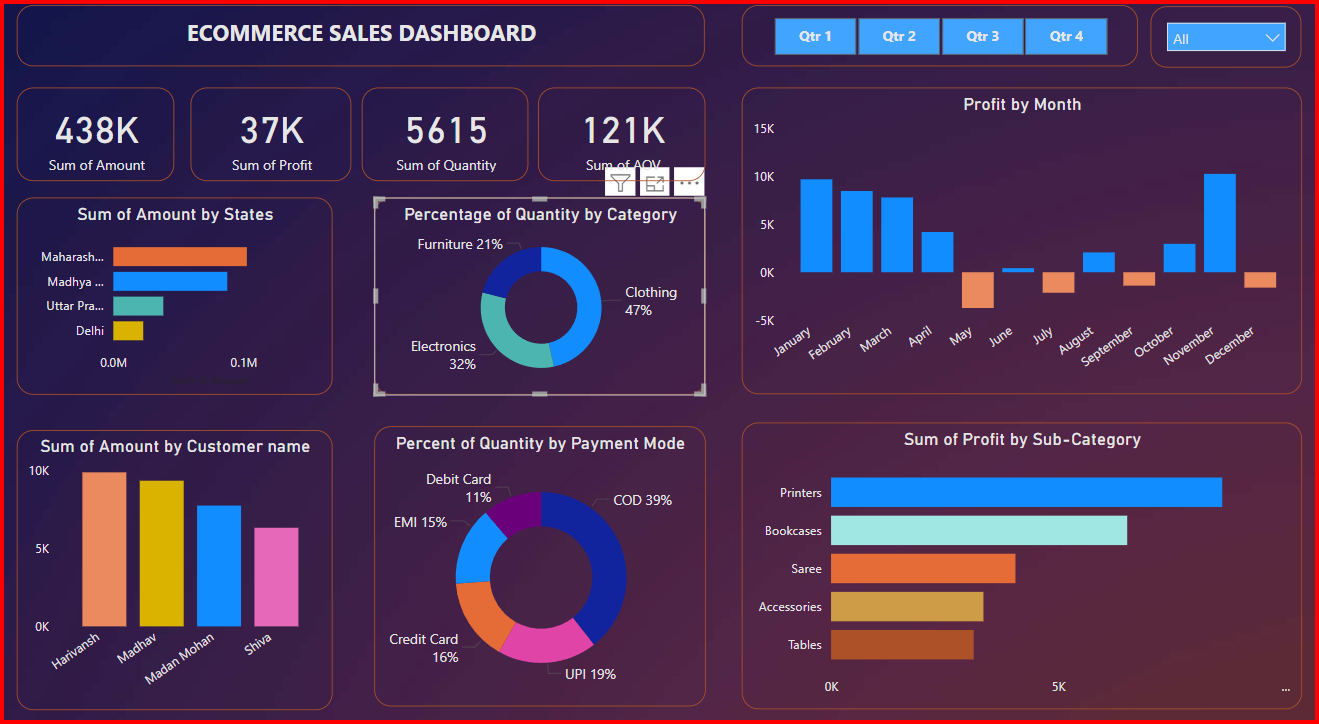

The page's visual inventory and layout, read from the dashboard file:
{"tool":"powerbi","page":{"name":"Page 1","canvas":[1280,720],"ordinal":0},"visuals":[{"type":"textbox","box":[23.3,9.6,664.2,59],"z":0},{"type":"columnChart","title":"Profit by Month","fields":{"Y":["Details.Profit"],"Category":["Orders.Order Date.Variation.Date Hierarchy.Month"]},"box":[723.2,89.2,540.7,296.4],"z":1000},{"type":"barChart","title":"Profit by Sub-Category","fields":{"Category":["Details.Sub-Category"],"Y":["Details.Profit"]},"box":[723.2,413,540.7,277.2],"z":2000},{"type":"donutChart","title":"Profit by Sub-Category","fields":{"Y":["Details.Quantity"],"Category":["Details.Category"]},"box":[367.8,194.9,319.7,190.7],"z":3000},{"type":"donutChart","title":"Profit by Sub-Category","fields":{"Y":["Details.Quantity"],"Category":["Details.PaymentMode"]},"box":[367.8,415.8,319.7,270.3],"z":4000},{"type":"barChart","title":"Profit by Sub-Category","fields":{"Category":["Orders.State"],"Y":["Details.Amount"]},"box":[23.3,194.9,304.6,190.7],"z":5000},{"type":"columnChart","title":"Profit by Sub-Category","fields":{"Category":["Orders.CustomerName"],"Y":["Details.Amount"]},"box":[23.3,419.9,304.6,270.3],"z":6000},{"type":"card","fields":{"Values":["Details.Amount"]},"box":[23.3,89.2,152.3,90.6],"z":7000},{"type":"card","fields":{"Values":["Details.Amount"]},"box":[190.7,89.2,155.1,90.6],"z":8000},{"type":"card","fields":{"Values":["Details.Amount"]},"box":[355.4,89.2,160.5,90.6],"z":9000},{"type":"card","fields":{"Values":["Details.Amount"]},"box":[525.6,89.2,161.9,90.6],"z":10000},{"type":"slicer","fields":{"Values":["Orders.Order Date.Variation.Date Hierarchy.Quarter"]},"box":[723.2,9.6,381.5,59],"z":11000},{"type":"slicer","fields":{"Values":["Orders.State"]},"box":[1112.9,9.6,150.9,59],"z":12000}]}

Visuals, with their boxes in screenshot pixels (x1, y1, x2, y2), scaled from the page's 1280x720 canvas onto the 1319x724 screenshot:
textbox: x1=24 y1=10 x2=708 y2=69
"Profit by Month" columnChart: x1=745 y1=90 x2=1302 y2=388
"Profit by Sub-Category" barChart: x1=745 y1=415 x2=1302 y2=694
"Profit by Sub-Category" donutChart: x1=379 y1=196 x2=708 y2=388
"Profit by Sub-Category" donutChart: x1=379 y1=418 x2=708 y2=690
"Profit by Sub-Category" barChart: x1=24 y1=196 x2=338 y2=388
"Profit by Sub-Category" columnChart: x1=24 y1=422 x2=338 y2=694
card - Details.Amount: x1=24 y1=90 x2=181 y2=181
card - Details.Amount: x1=197 y1=90 x2=356 y2=181
card - Details.Amount: x1=366 y1=90 x2=532 y2=181
card - Details.Amount: x1=542 y1=90 x2=708 y2=181
slicer - Orders.Order Date.Variation.Date Hierarchy.Quarter: x1=745 y1=10 x2=1138 y2=69
slicer - Orders.State: x1=1147 y1=10 x2=1302 y2=69
